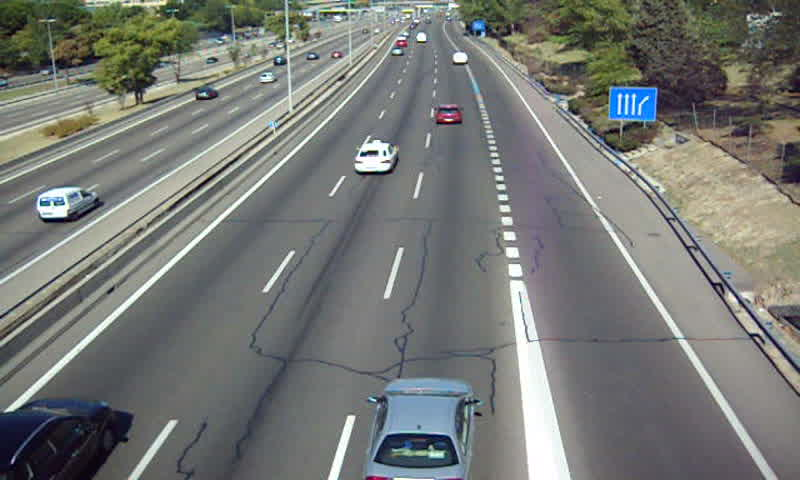car: (364, 378, 471, 480), (353, 139, 400, 175), (435, 105, 462, 126)
van: (452, 51, 468, 66)
